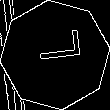L_W: (28, 36, 82, 74)
